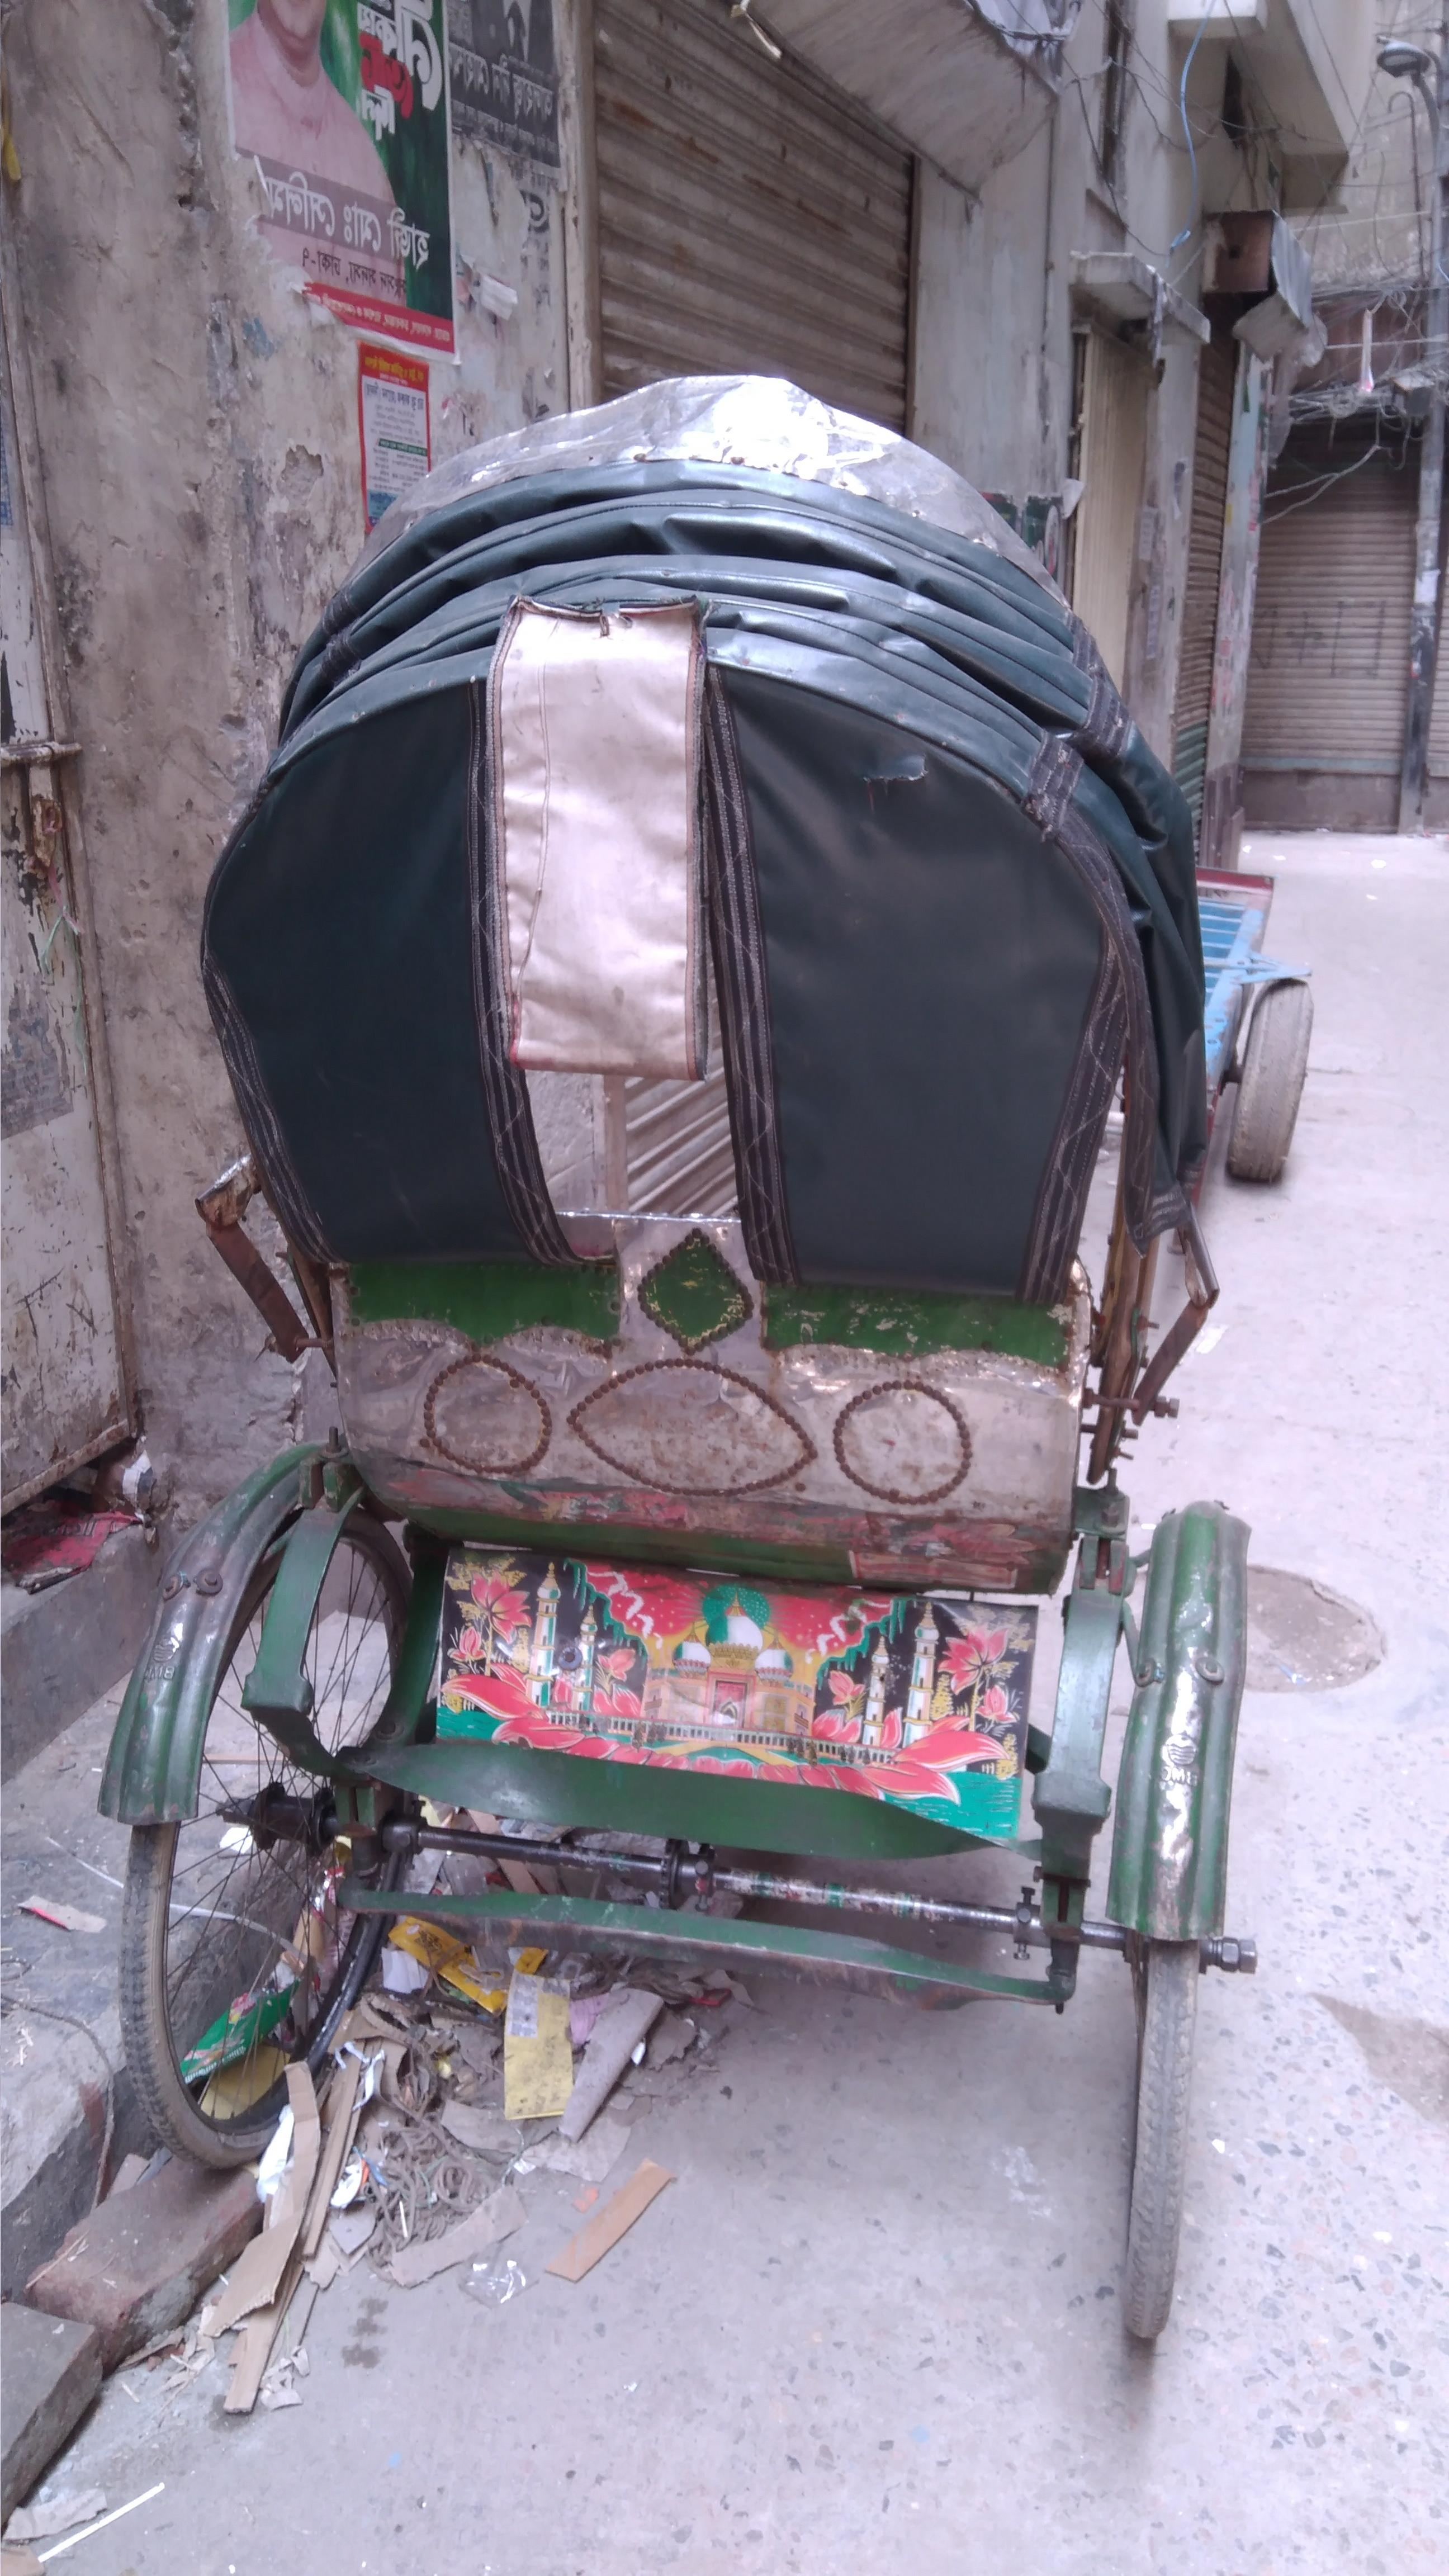Rickshaw: (145, 349, 1256, 2224)
